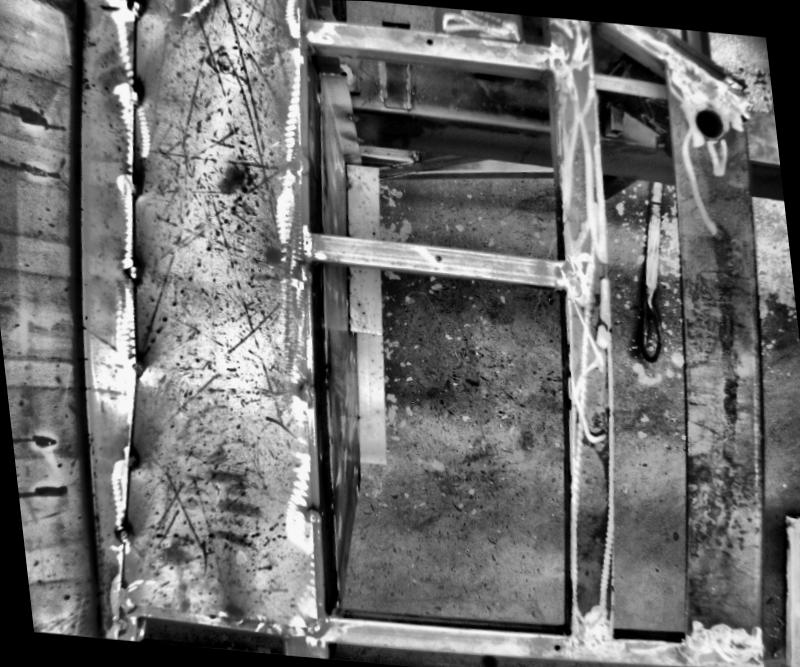hole: (688, 104, 728, 142), (432, 252, 442, 261), (424, 36, 433, 44), (553, 641, 561, 648)
